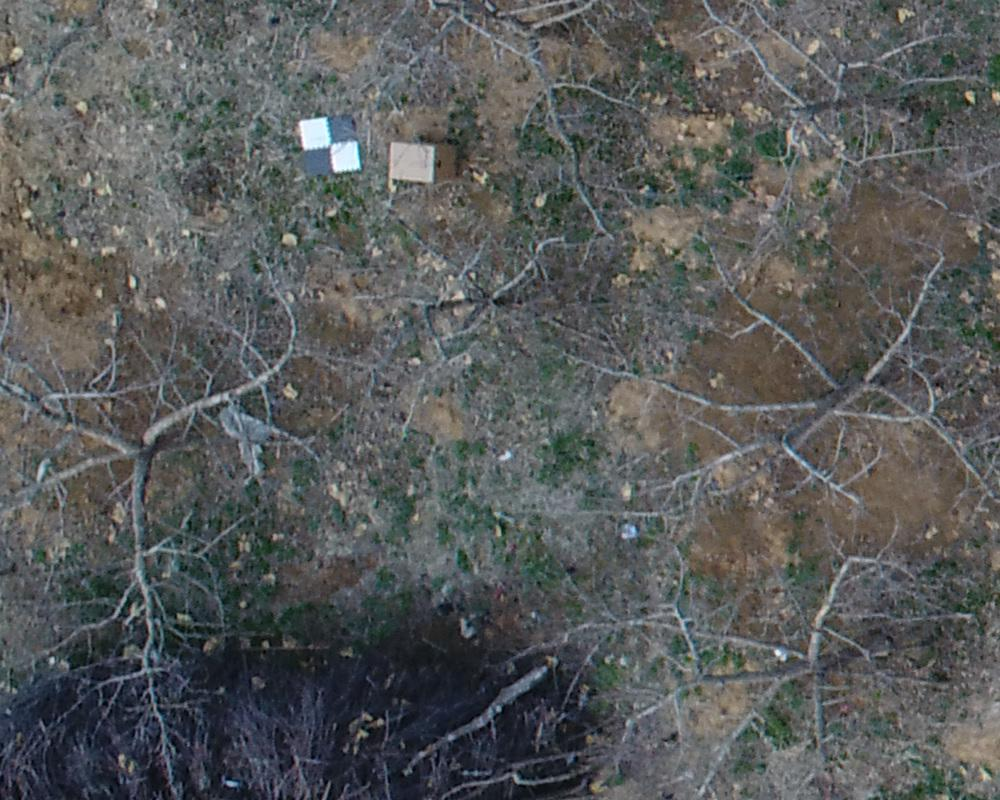apple: (16, 292, 325, 790), (563, 249, 990, 572), (549, 531, 973, 790), (323, 10, 682, 234), (691, 10, 950, 208)
